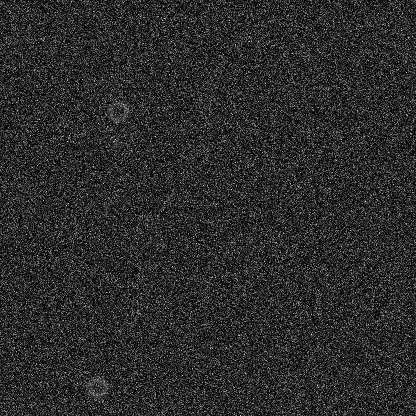Ring: (279, 371, 303, 395), (105, 99, 129, 123), (303, 367, 327, 391), (85, 375, 109, 399)
Spot: (108, 134, 124, 150)
